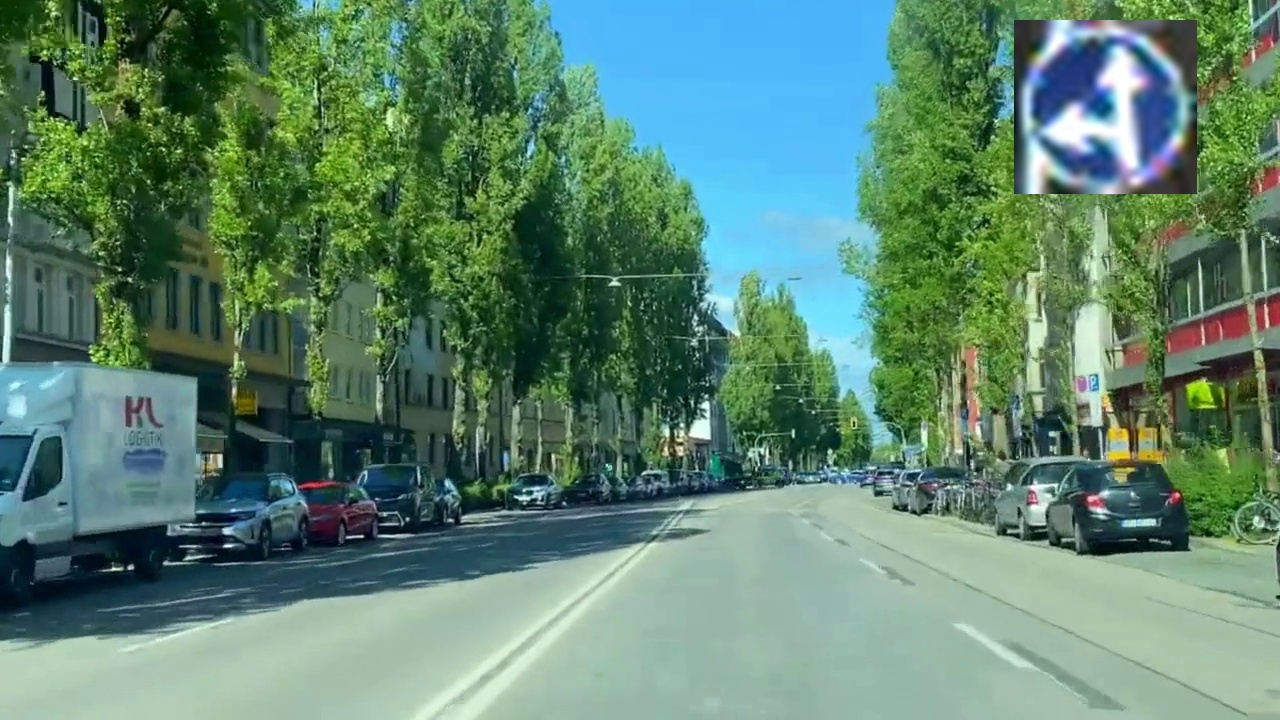Straight/left: (1014, 20, 1197, 194)
